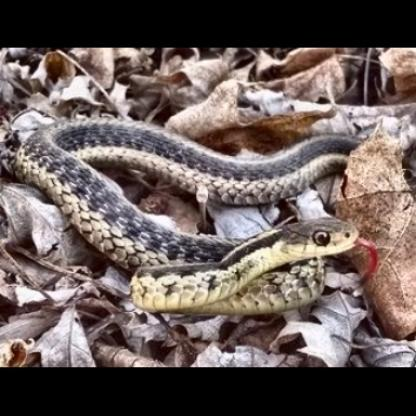Snake: (13, 115, 369, 318)
